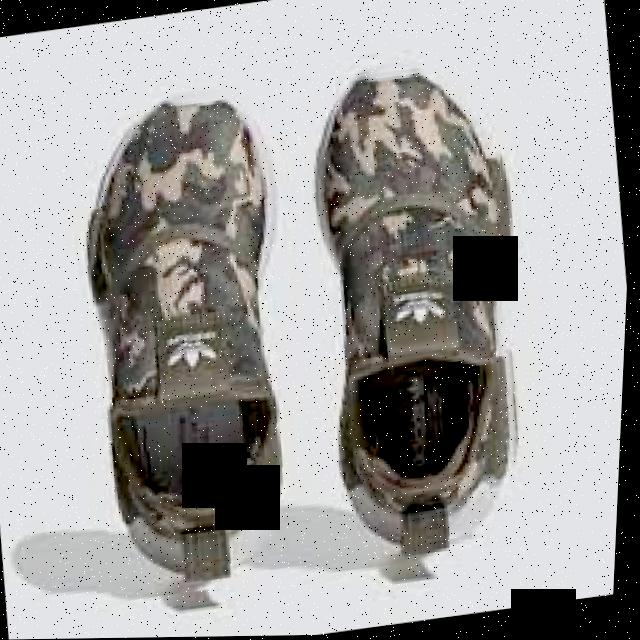shoe: (56, 53, 555, 603)
